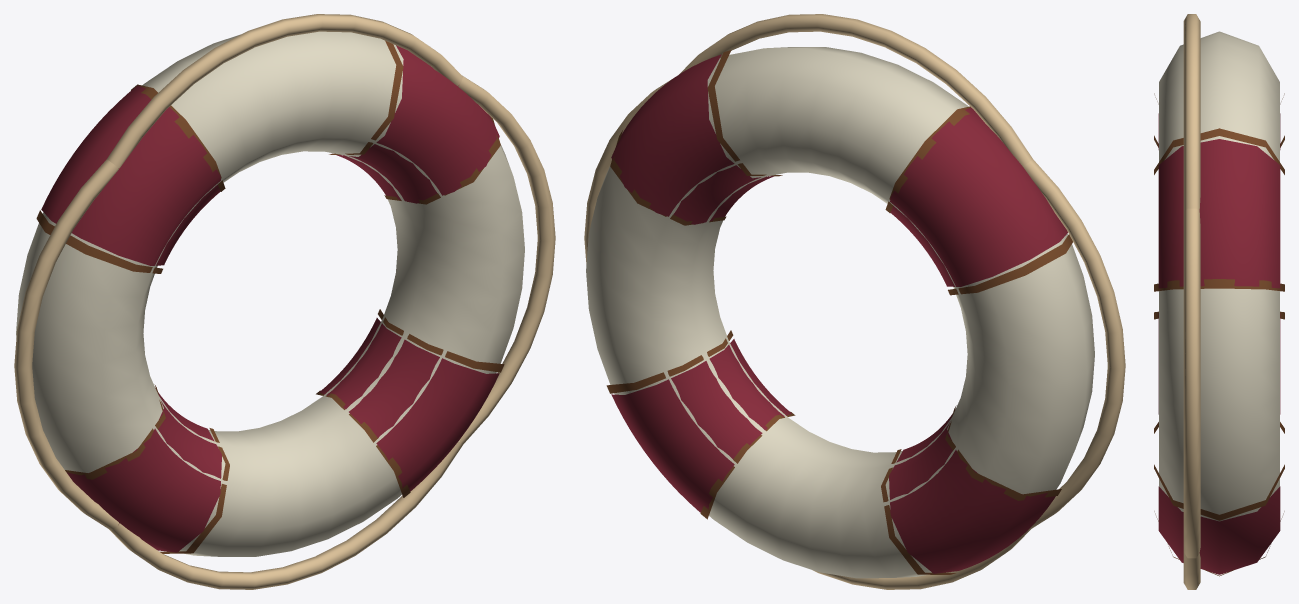
The model's file is mia-lifebuoy.glb.
3 renders of one model, left to right at view 1: azimuth 30°, elevation 25°; view 2: azimuth 150°, elevation 25°; view 3: azimuth 270°, elevation 25°, orthographic. The views are drawn at different scales.
Parts seen in each view (by area): view 1: Body_mattress, Body_velvet, Body_ivory, Body_rust; view 2: Body_mattress, Body_velvet, Body_ivory, Body_rust; view 3: Body_mattress, Body_velvet, Body_ivory, Body_rust.
Part boxes in pixels (<box>): Body_mattress: <box>16,31,524,556</box>; Body_velvet: <box>41,45,499,552</box>; Body_ivory: <box>14,14,555,589</box>; Body_rust: <box>36,41,504,553</box>; Body_mattress: <box>586,47,1094,578</box>; Body_velvet: <box>611,54,1067,573</box>; Body_ivory: <box>584,14,1125,589</box>; Body_rust: <box>606,50,1072,574</box>; Body_mattress: <box>1159,31,1279,521</box>; Body_velvet: <box>1158,113,1280,574</box>; Body_ivory: <box>1183,14,1200,589</box>; Body_rust: <box>1154,93,1284,576</box>.
Size of the model in its own units: 0.9005 by 0.9005 by 0.2.
